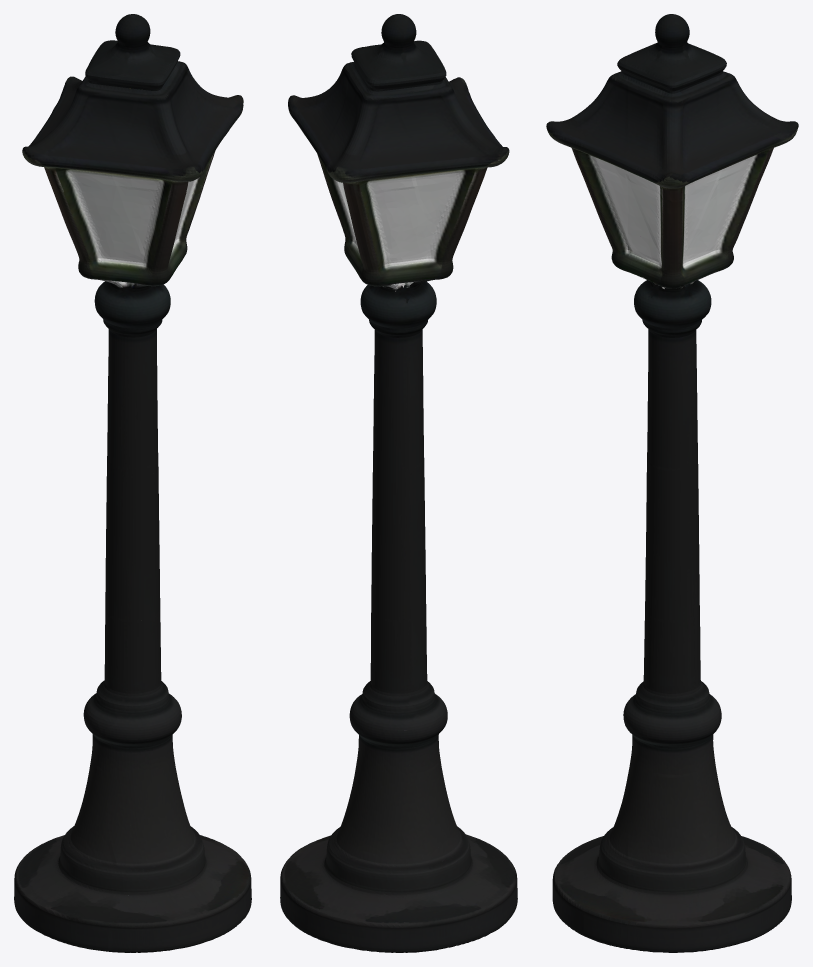
Rendered from hunyuan_street_lamp_textured.glb.
3 renders of one model, left to right at view 1: azimuth 30°, elevation 25°; view 2: azimuth 150°, elevation 25°; view 3: azimuth 270°, elevation 25°, orthographic.
Visible parts, largest first — view 1: tmpjkdbp40r.ply; view 2: tmpjkdbp40r.ply; view 3: tmpjkdbp40r.ply.
Boxes of the visible parts, x1=… form: tmpjkdbp40r.ply: x1=14, y1=14, x2=251, y2=952; tmpjkdbp40r.ply: x1=280, y1=14, x2=517, y2=952; tmpjkdbp40r.ply: x1=546, y1=14, x2=798, y2=952.
Size of the model in its own units: 0.5129 by 1.99 by 0.5131.
1 material, 1 textured.
